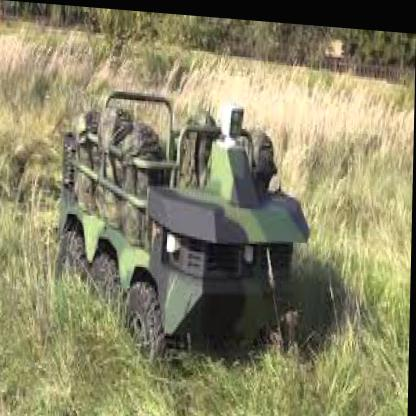UGV: (57, 84, 314, 362)
